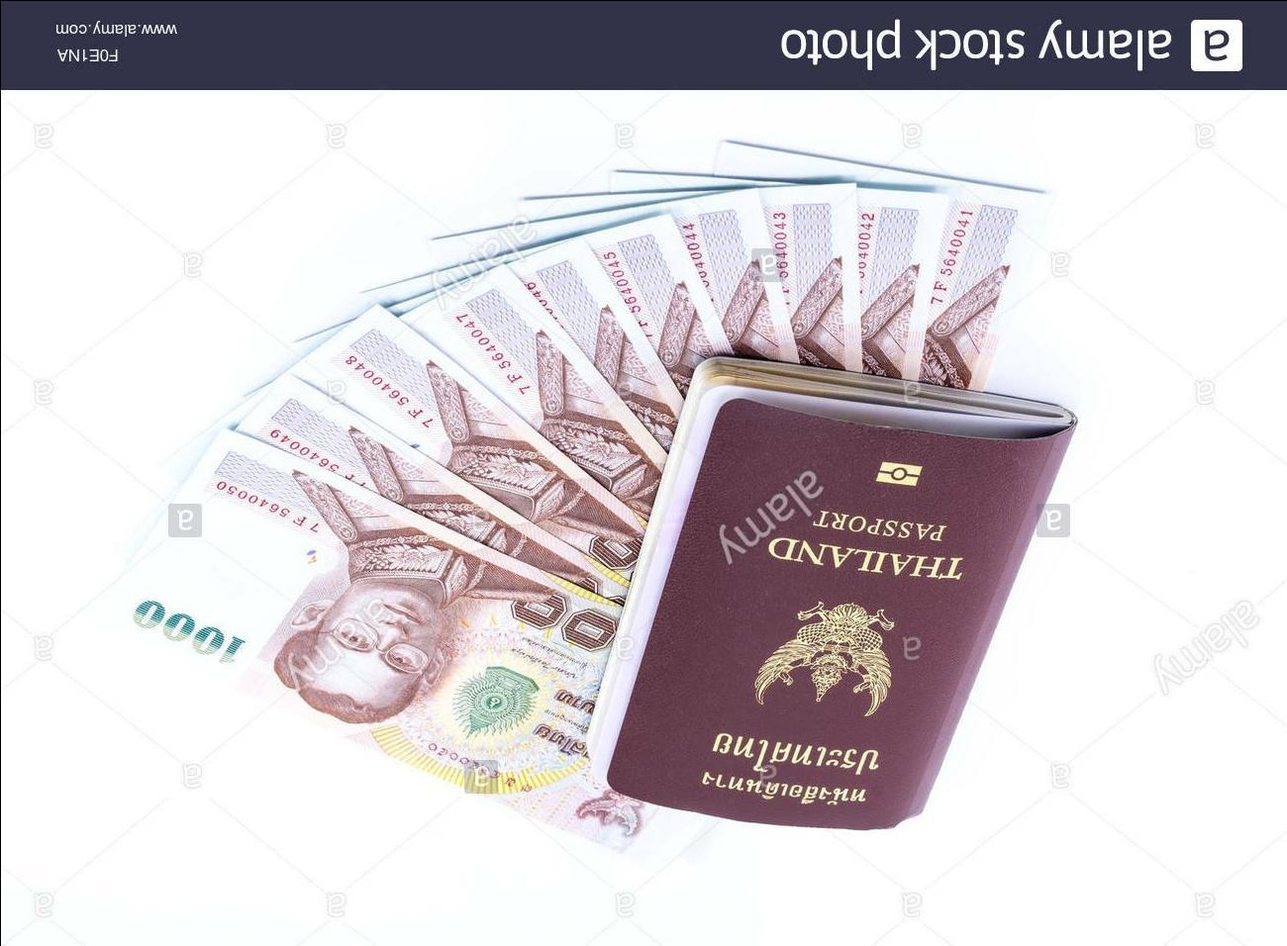1000BahtTai: (85, 424, 610, 802)
